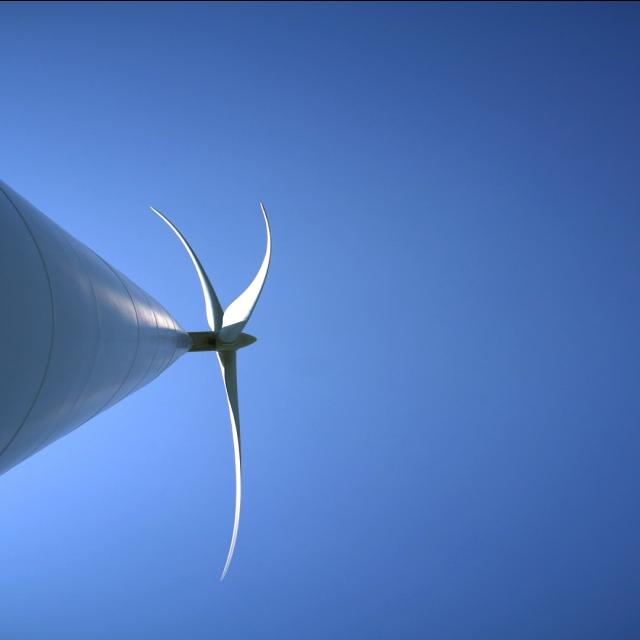blade 1: (144, 188, 212, 302)
blade 2: (216, 355, 276, 627)
blade 3: (218, 37, 280, 306)
